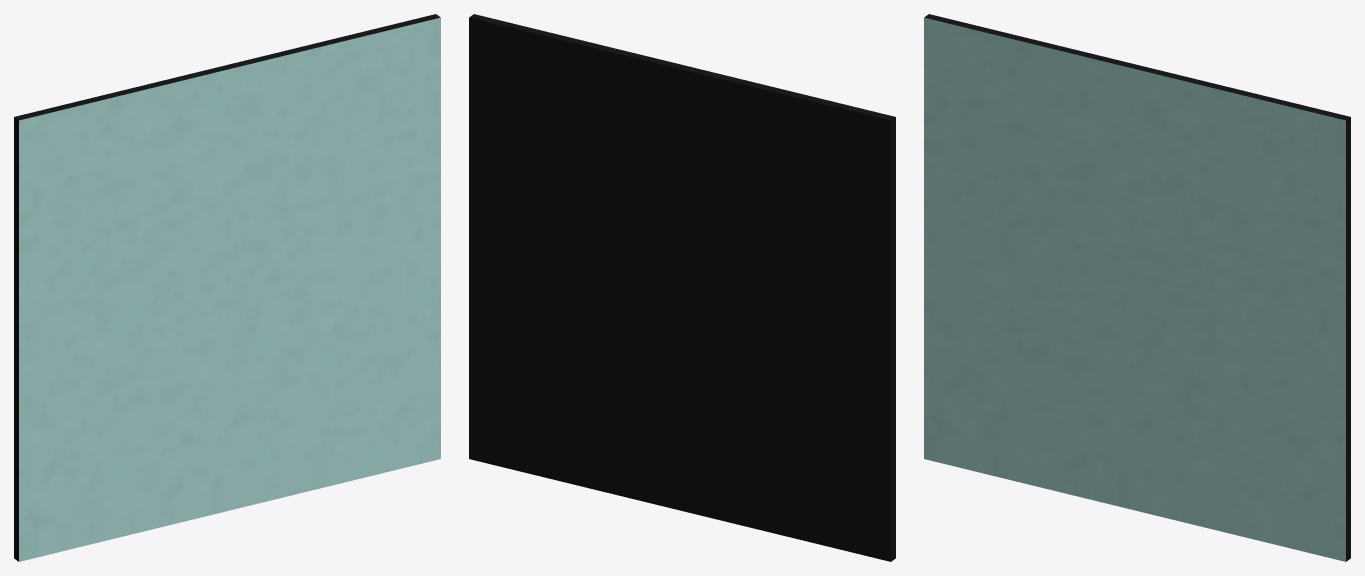
File: Wall_D_01.FBX
The picture shows the model from 3 angles, left to right: view 1: azimuth 30°, elevation 25°; view 2: azimuth 150°, elevation 25°; view 3: azimuth 330°, elevation 25°; orthographic projection.
Visible parts, largest first — view 1: Wall_B; view 2: Wall_B; view 3: Wall_B.
Boxes of the visible parts, x1=… form: Wall_B: x1=14, y1=14, x2=440, y2=561; Wall_B: x1=469, y1=14, x2=895, y2=561; Wall_B: x1=924, y1=14, x2=1350, y2=561.
Bounding box in the file's own units: 500 × 500 × 10.
